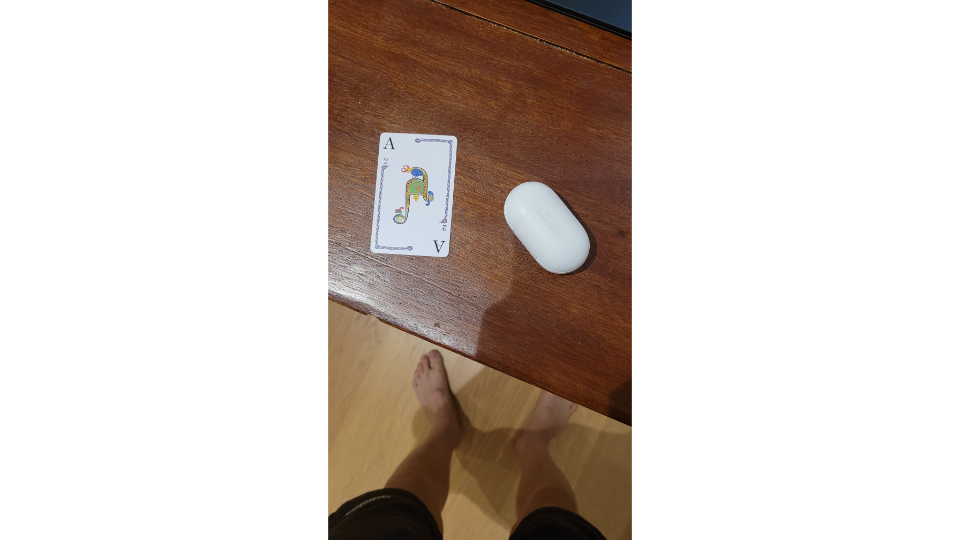A: (367, 130, 459, 259)
